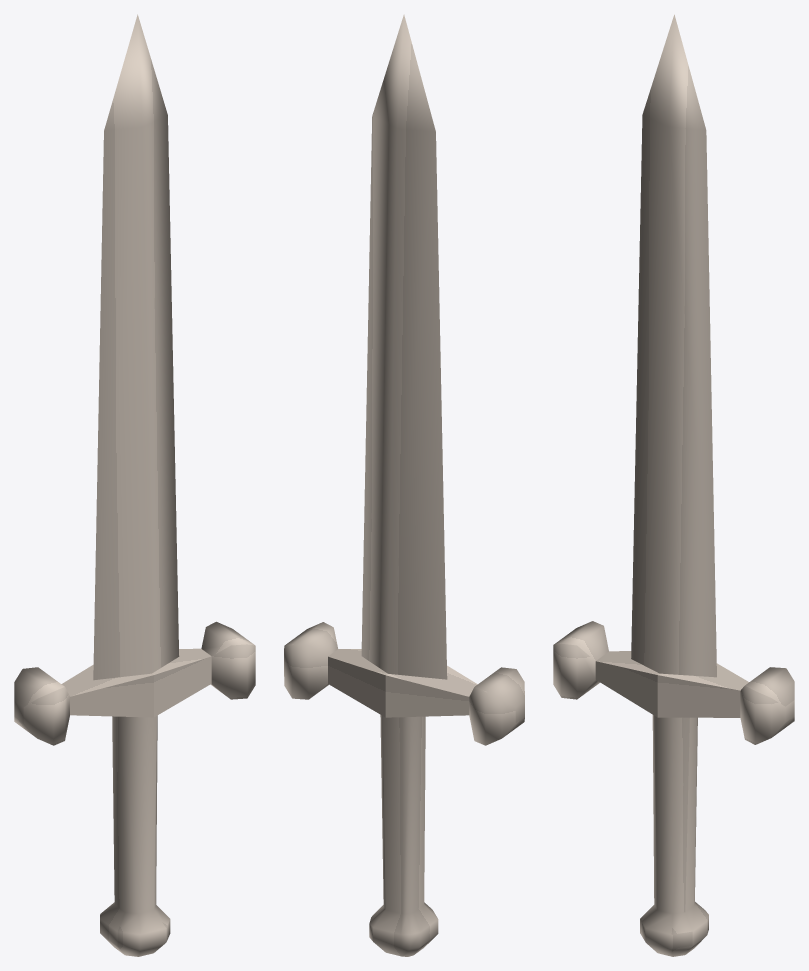
File: Props_Sword.fbx
The picture shows the model from 3 angles, left to right: view 1: azimuth 30°, elevation 25°; view 2: azimuth 150°, elevation 25°; view 3: azimuth 330°, elevation 25°; orthographic projection.
Parts seen in each view (by area): view 1: pCube149; view 2: pCube149; view 3: pCube149.
Part boxes in pixels (bbox=[...]): pCube149: bbox=[14, 14, 255, 956]; pCube149: bbox=[284, 14, 524, 956]; pCube149: bbox=[553, 14, 794, 956].
Bounding box in the file's own units: 0.3461 × 1.33 × 0.0914.
